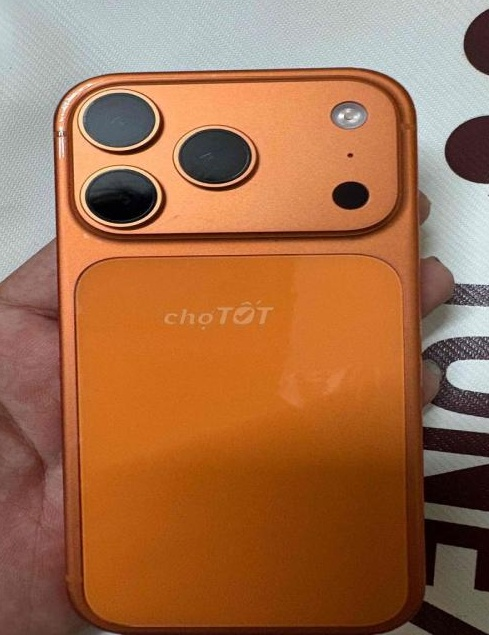scratch: (45, 69, 101, 167)
